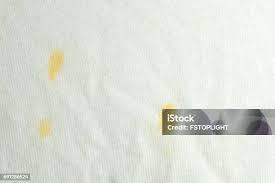lipstick: (43, 47, 66, 81), (46, 56, 69, 89), (38, 121, 54, 137), (162, 101, 174, 109)
